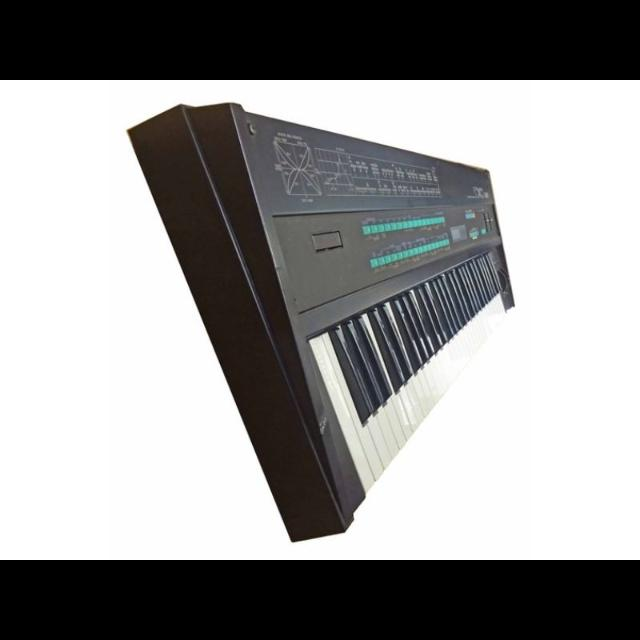Electronic-Keyboard: (120, 94, 538, 542)
